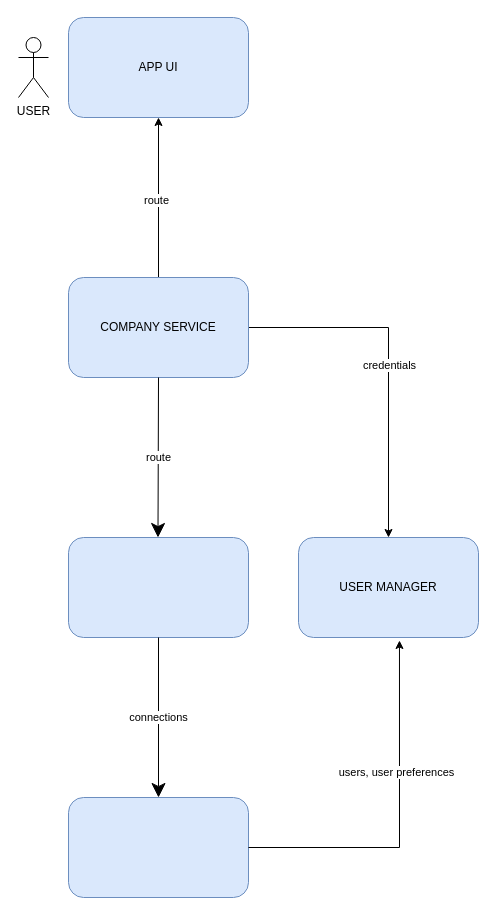
The diagram is 496 pixels wide and 915 high, and some of its shapes have lost their labels. The centre of each missing label's shape, as x and y in pixels:
"COMPANY FINDER" belongs at point (158, 587).
"CSV FILE STORAGE" belongs at point (158, 847).
